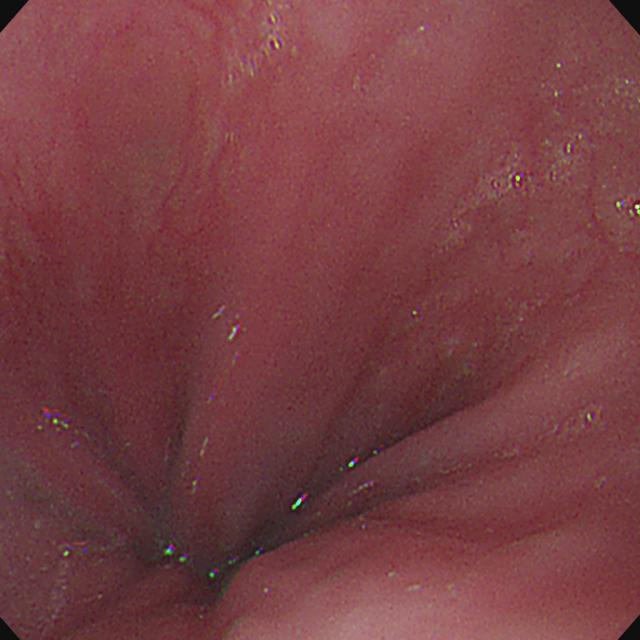T: (450, 159, 527, 233)
U: (614, 194, 640, 220)
